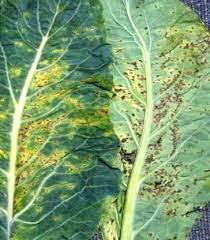Bok-Choy-Diseased: (1, 0, 125, 240), (104, 2, 210, 240)
